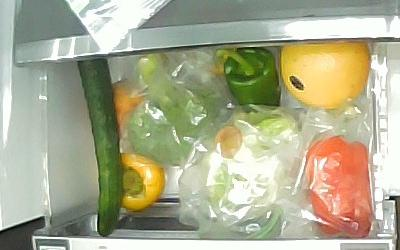broccoli_vinyl: (127, 53, 219, 167)
cucumber: (76, 58, 121, 237)
grapefruit: (280, 45, 370, 109)
lettuce_vinyl: (204, 111, 301, 212)
paprika: (216, 48, 280, 113)
paprika_vinyl: (305, 136, 373, 238)
peach_vinyl: (113, 79, 144, 134)
persimmon: (119, 154, 165, 210)
